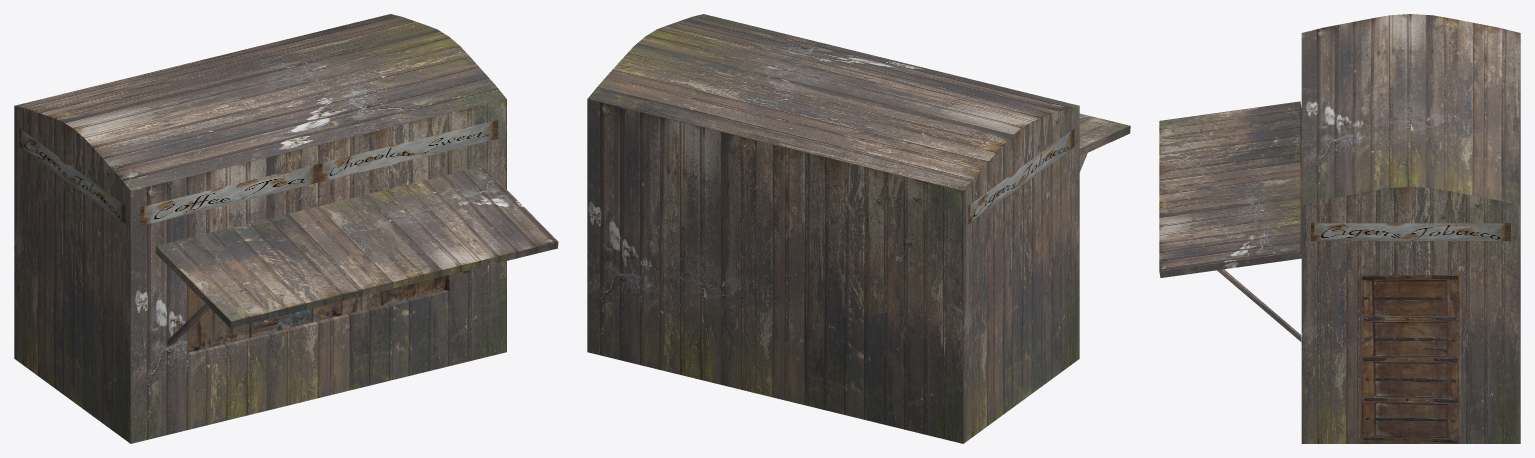
Rendered from Coffee Hut.FBX.
3 renders of one model, left to right at view 1: azimuth 30°, elevation 25°; view 2: azimuth 150°, elevation 25°; view 3: azimuth 270°, elevation 25°, orthographic. The views are drawn at different scales.
Visible parts, largest first — view 1: Box001, Shutter; view 2: Box001, Shutter; view 3: Box001, Shutter, Box003.
Part boxes in pixels (x1=…): Box001: x1=14, y1=14, x2=506, y2=443; Shutter: x1=155, y1=166, x2=558, y2=328; Box001: x1=587, y1=14, x2=1079, y2=443; Shutter: x1=1079, y1=113, x2=1130, y2=155; Box001: x1=1301, y1=14, x2=1520, y2=443; Shutter: x1=1159, y1=101, x2=1301, y2=277; Box003: x1=1217, y1=269, x2=1301, y2=341.
Size of the model in its own units: 110 by 76.52 by 97.41.
Materials: 1 (1 with a texture image).
